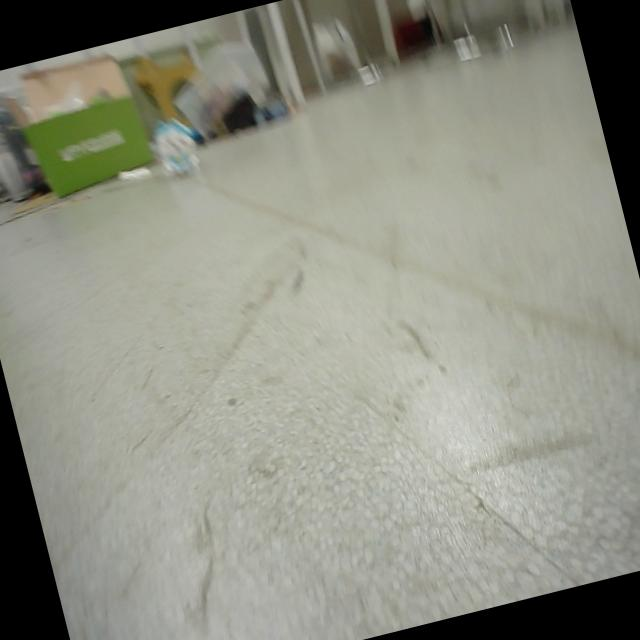xiaoba: (146, 108, 204, 185)
